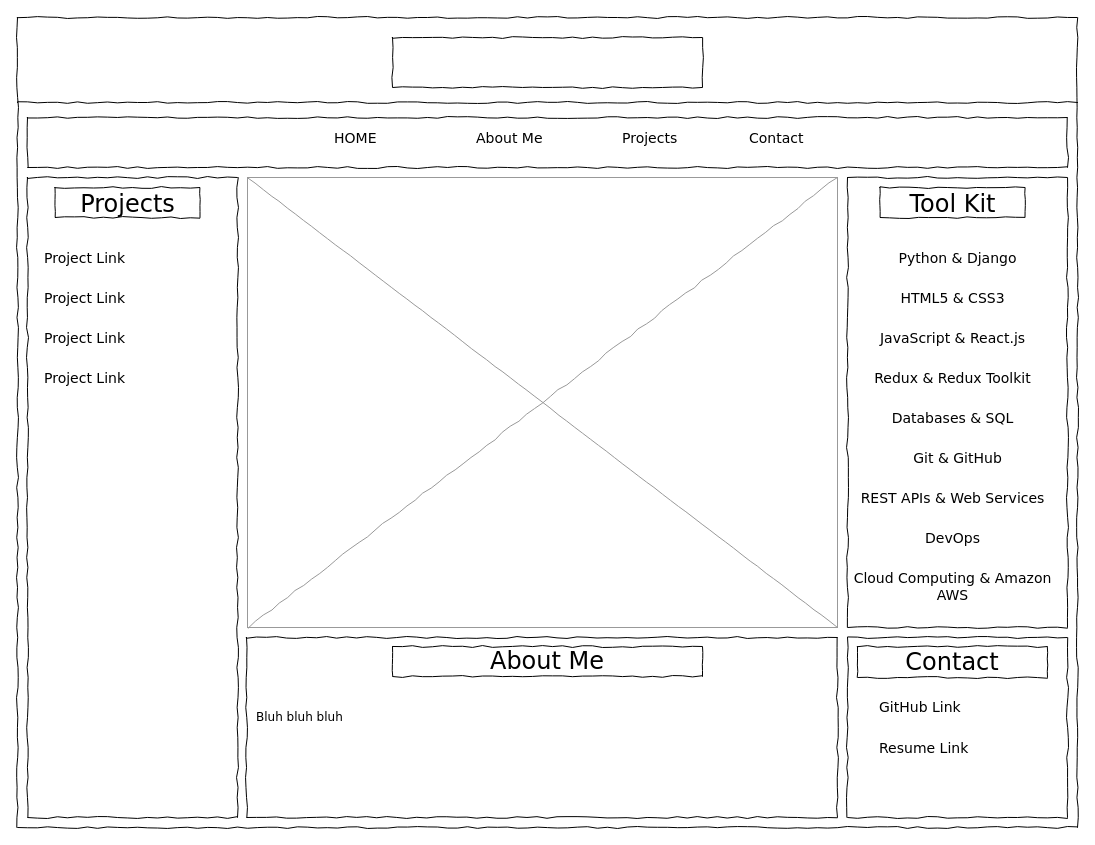
Image size: 1095x845. Some labels were removed from this diagram. The shapes that lost their labels are listed below. From the top down, each one's centre as x and y in pixels, then its label:
At point (547, 62): "Dillon Coleman".
At point (542, 402): "ppp".
